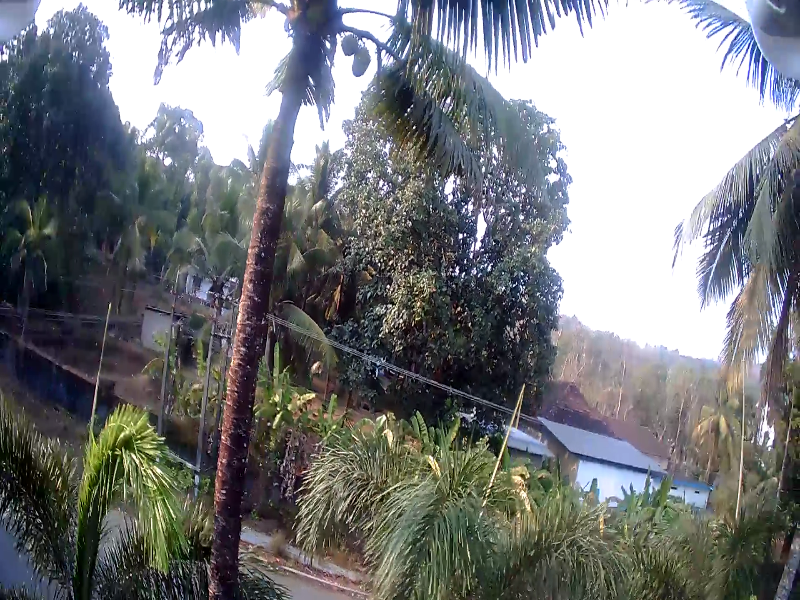coconut: (351, 50, 369, 77), (342, 33, 355, 57)
